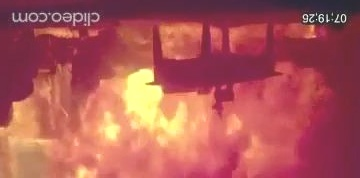fire: (0, 29, 349, 178)
